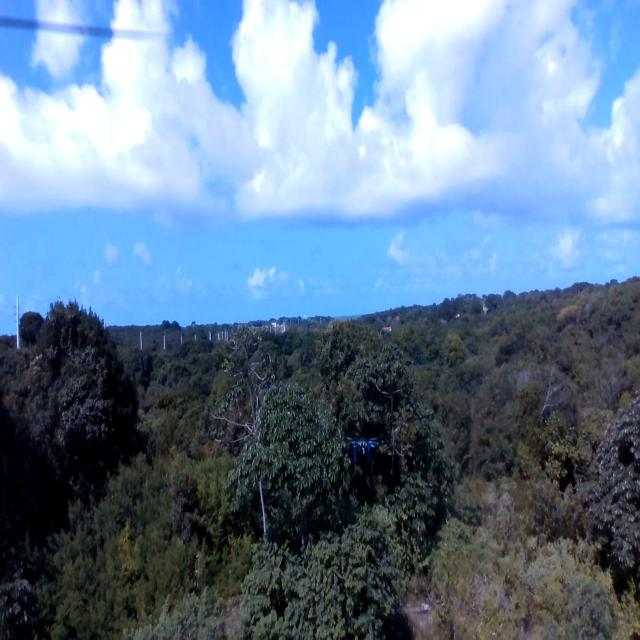-uav-: (339, 422, 384, 479)
